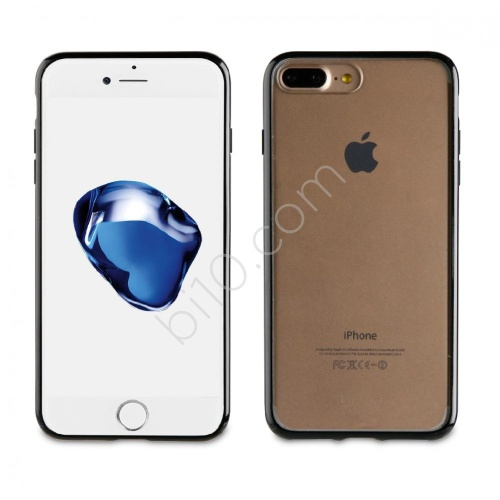apple: (340, 128, 395, 183)
